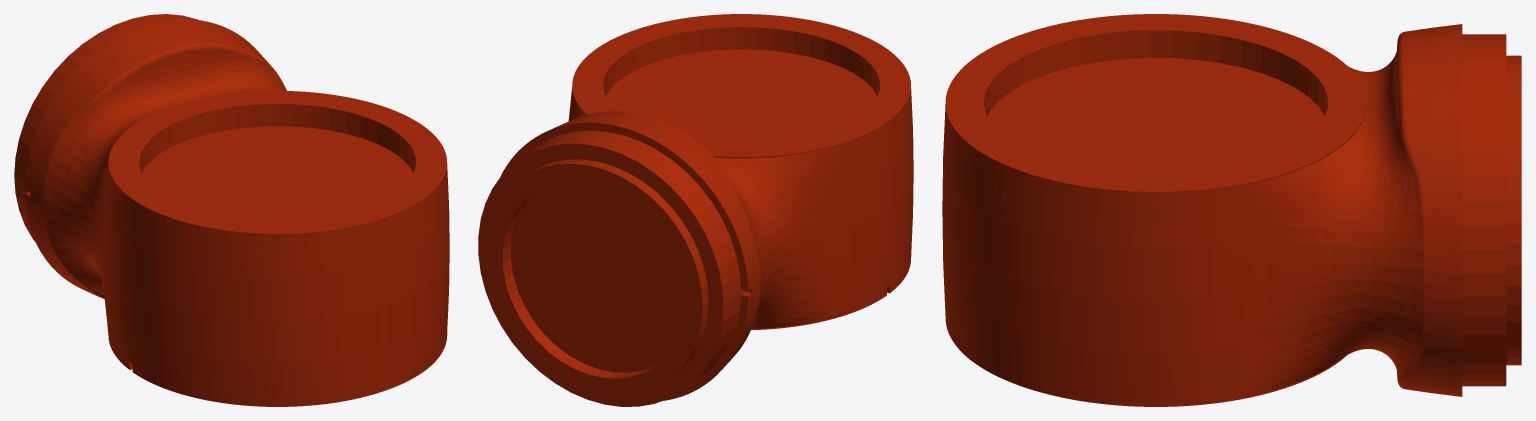
The picture shows the model from 3 angles, left to right: view 1: azimuth 30°, elevation 25°; view 2: azimuth 150°, elevation 25°; view 3: azimuth 270°, elevation 25°; orthographic projection. The views are drawn at different scales.
Parts seen in each view (by area): view 1: Link1; view 2: Link1; view 3: Link1.
Part boxes in pixels (x1,y1,x2,y2): Link1: (14,14,449,406); Link1: (478,14,913,406); Link1: (942,14,1521,406).
Size of the model in its own units: 0.1116 by 0.0974 by 0.1513.
